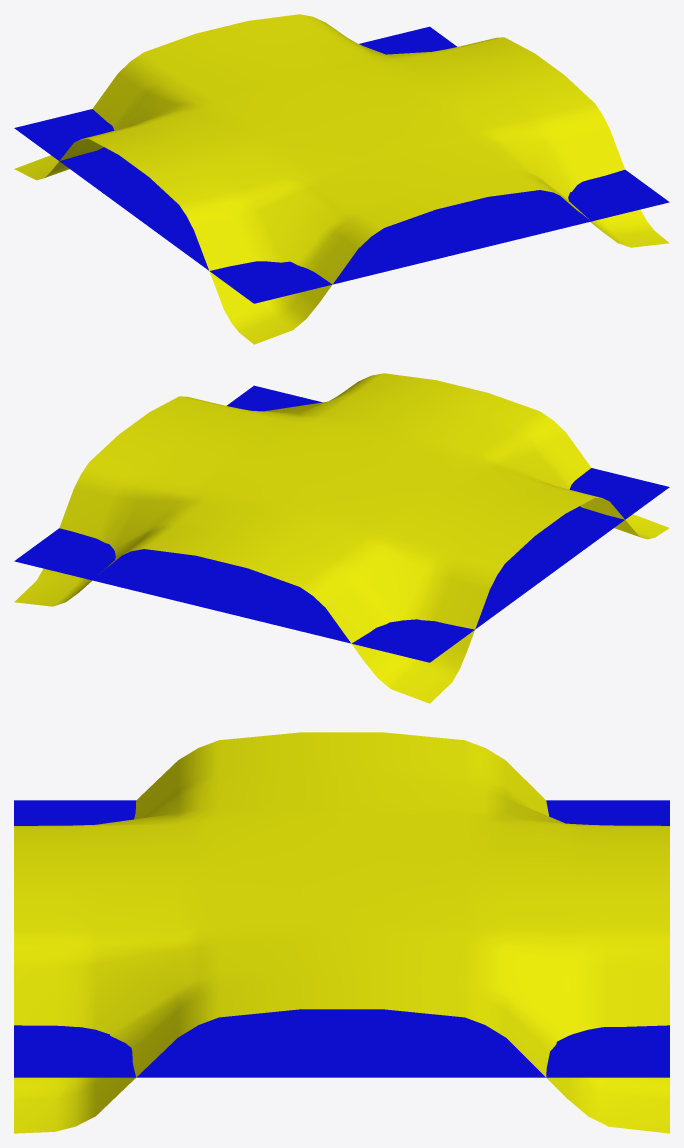
The model's file is Swamp_Lane_+.fbx.
The picture shows the model from 3 angles, top to bottom: view 1: azimuth 30°, elevation 25°; view 2: azimuth 150°, elevation 25°; view 3: azimuth 270°, elevation 25°; orthographic projection. The views are drawn at different scales.
Visible parts, largest first — view 1: path_low, water_low; view 2: path_low, water_low; view 3: path_low, water_low.
Boxes of the visible parts, x1,y1,x2,y2 form: path_low: (14, 14, 669, 344); water_low: (14, 26, 669, 303); path_low: (14, 373, 669, 703); water_low: (14, 385, 669, 662); path_low: (14, 732, 669, 1133); water_low: (14, 800, 669, 1077).
Size of the model in its own units: 2 by 0.4189 by 2.
